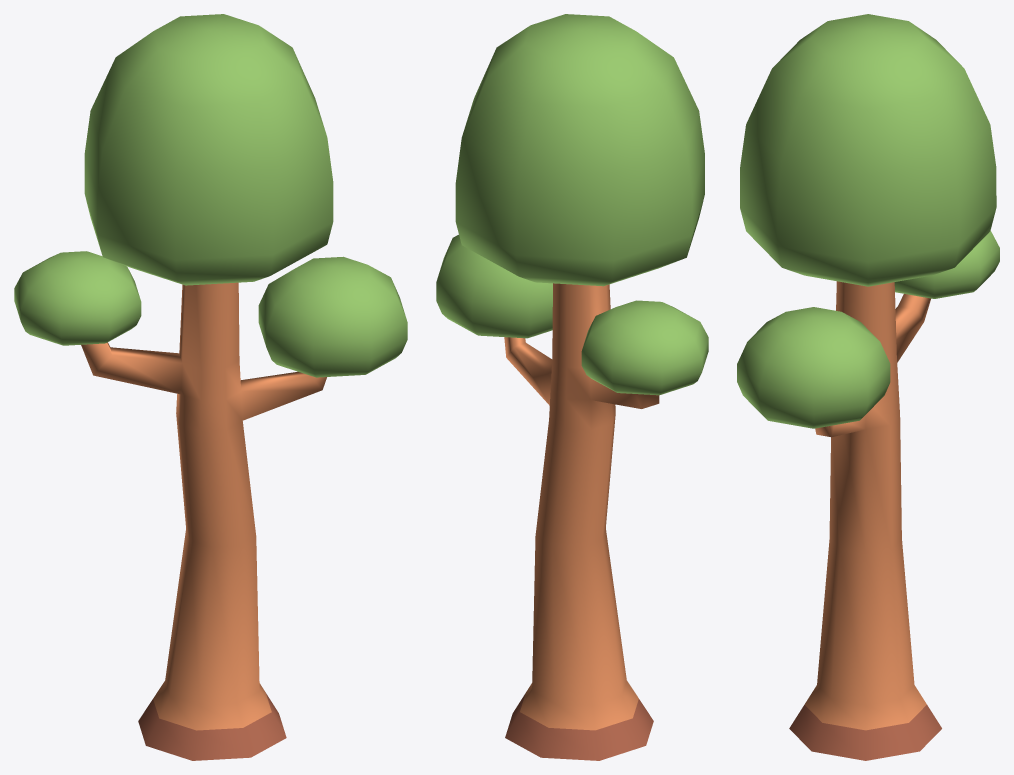
The model's file is Tree_d.FBX.
3 views of the same model, side by side, from view 1: azimuth 30°, elevation 25°; view 2: azimuth 150°, elevation 25°; view 3: azimuth 270°, elevation 25° (orthographic).
Visible parts, largest first — view 1: Tree_d; view 2: Tree_d; view 3: Tree_d.
Part boxes in pixels (left/top/right/bottom): Tree_d: left=14, top=14, right=407, bottom=760; Tree_d: left=436, top=14, right=708, bottom=760; Tree_d: left=737, top=14, right=999, bottom=760.
Size of the model in its own units: 138 by 290 by 99.33.
